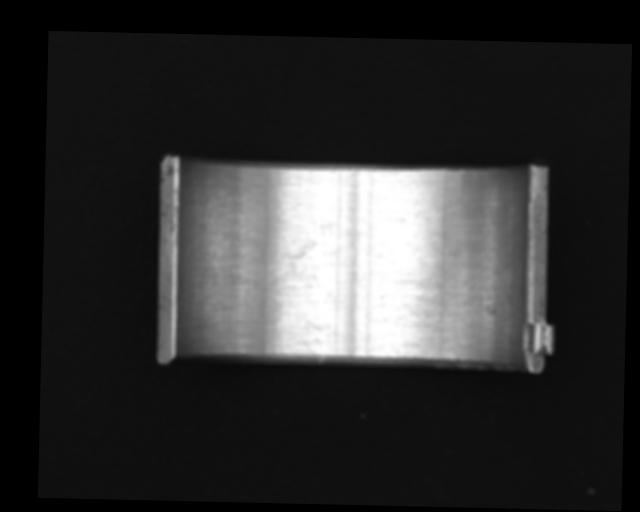blot: (276, 237, 321, 287)
